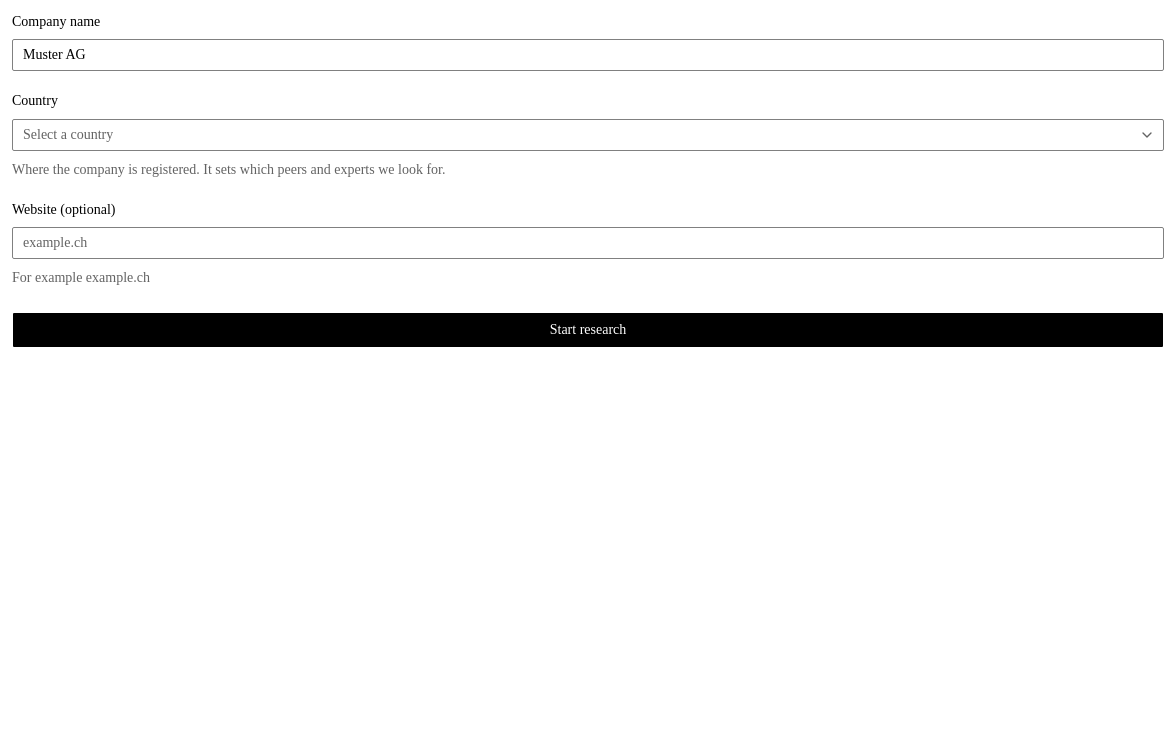
it: LookupForm (AC-3) › refreshes the page when the company already exists so the dashboard renders
Click the dropdown labelled "country" at (68,134), box [12,118,1164,150]
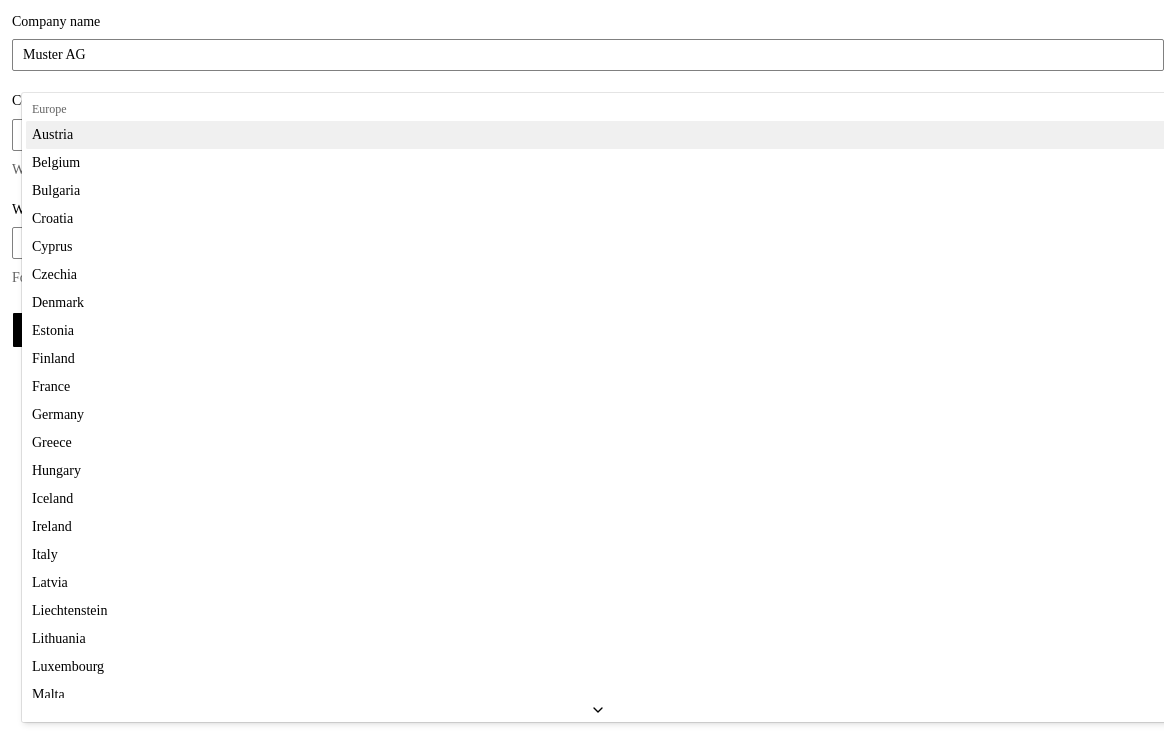
Type keys "Switzerland"
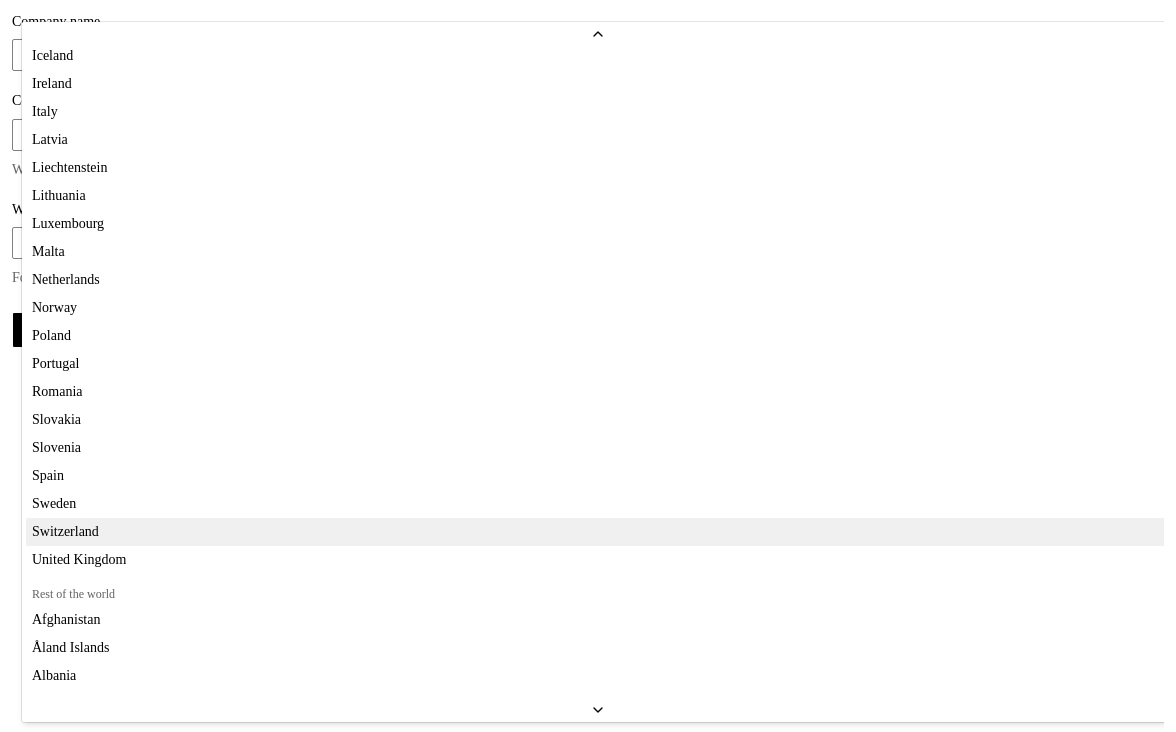
Press Enter
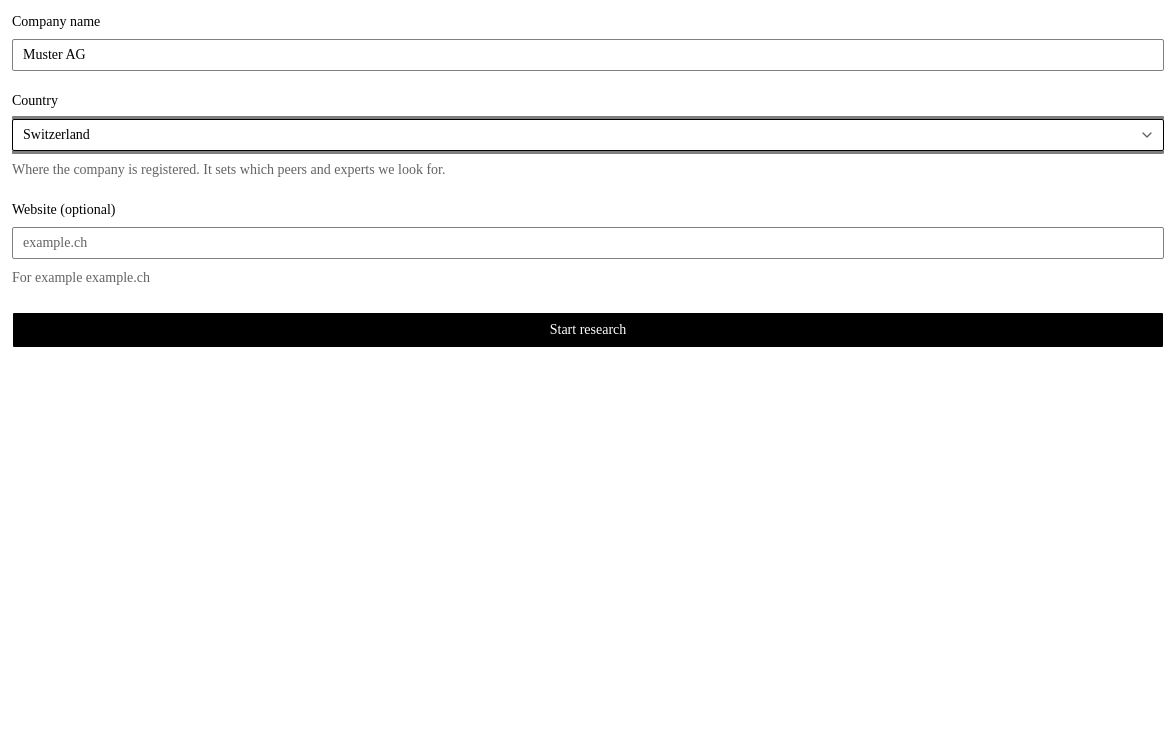
Check: the dropdown named "Country" reads "Switzerland", box [12,118,1164,150]
Click the button "Start research" at (588,330), box [12,312,1164,348]
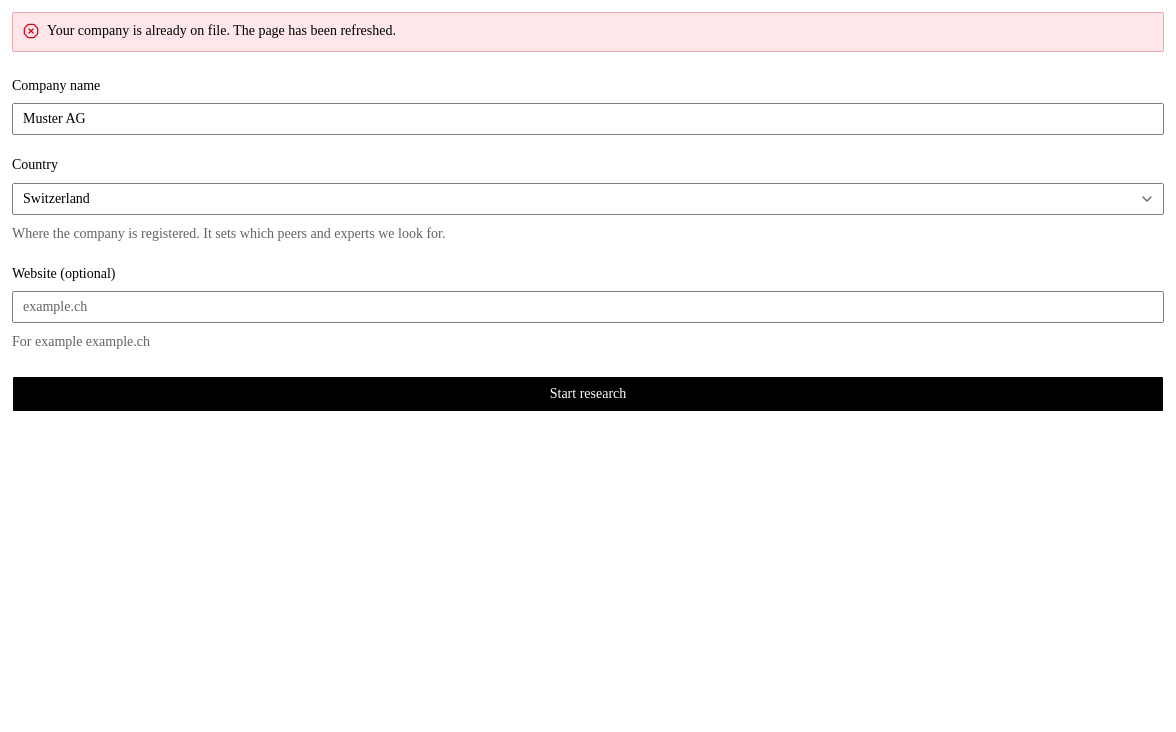
Check: the message reads "Your company is already on file. The page has been refreshed.", box [47,23,396,38]
